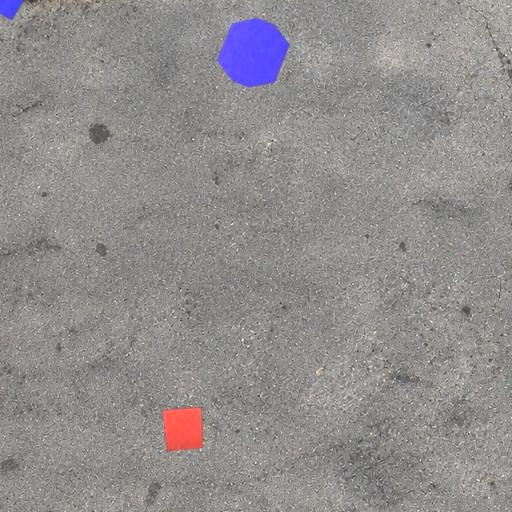RED_SQUARE: (162, 406, 204, 452)
